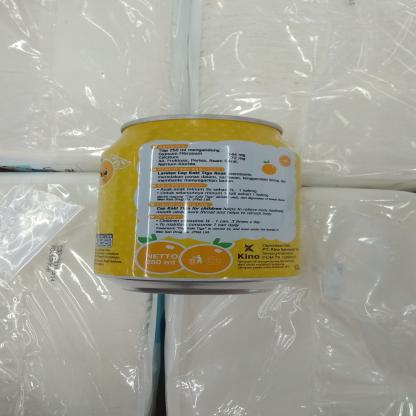bottle: (89, 110, 302, 294)
